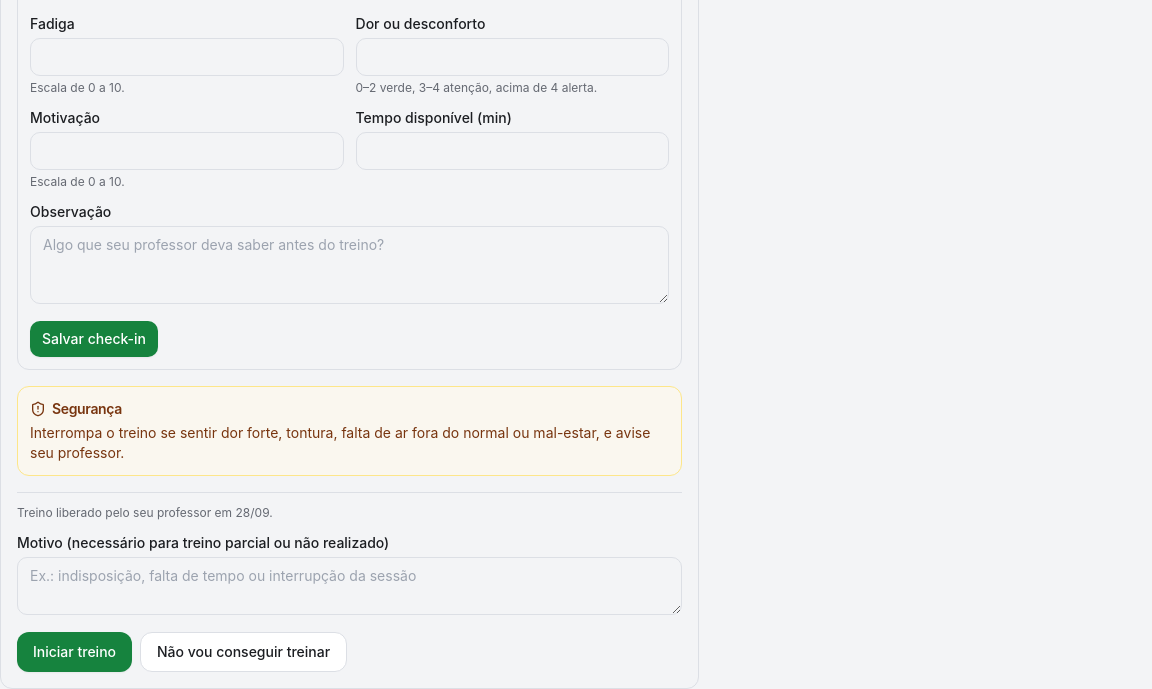
TrainingRoutinePanel (#387) › reconcilia automaticamente o estado canônico após conflito de versão
(page scrolled)
Click the button "Iniciar treino" at (74, 652), box [17, 632, 132, 672]
(page scrolled)
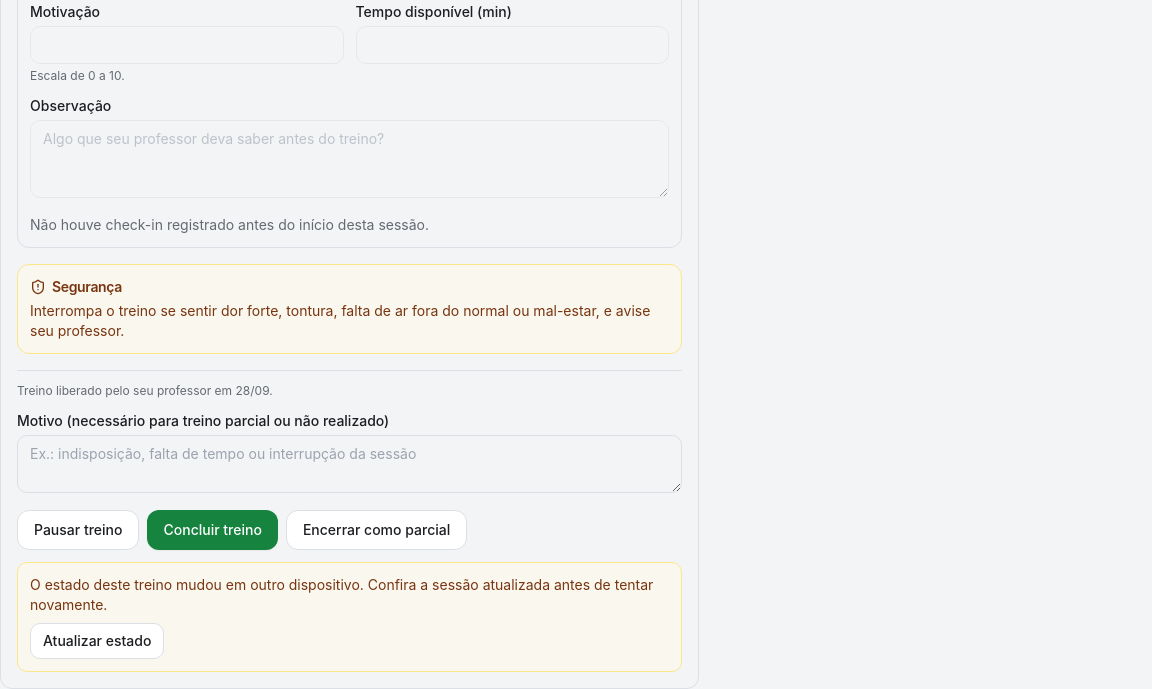
Result: the 2nd message shows "outro dispositivo" at [30, 576, 653, 613]
